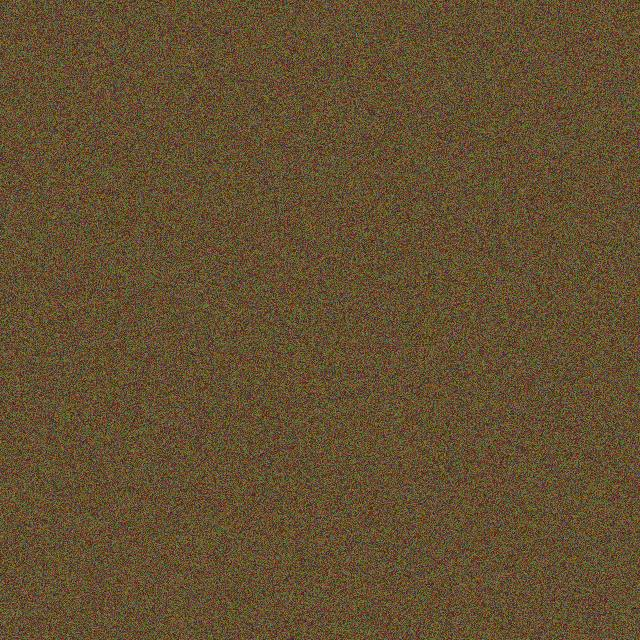ghost_net: (368, 333, 420, 436)
